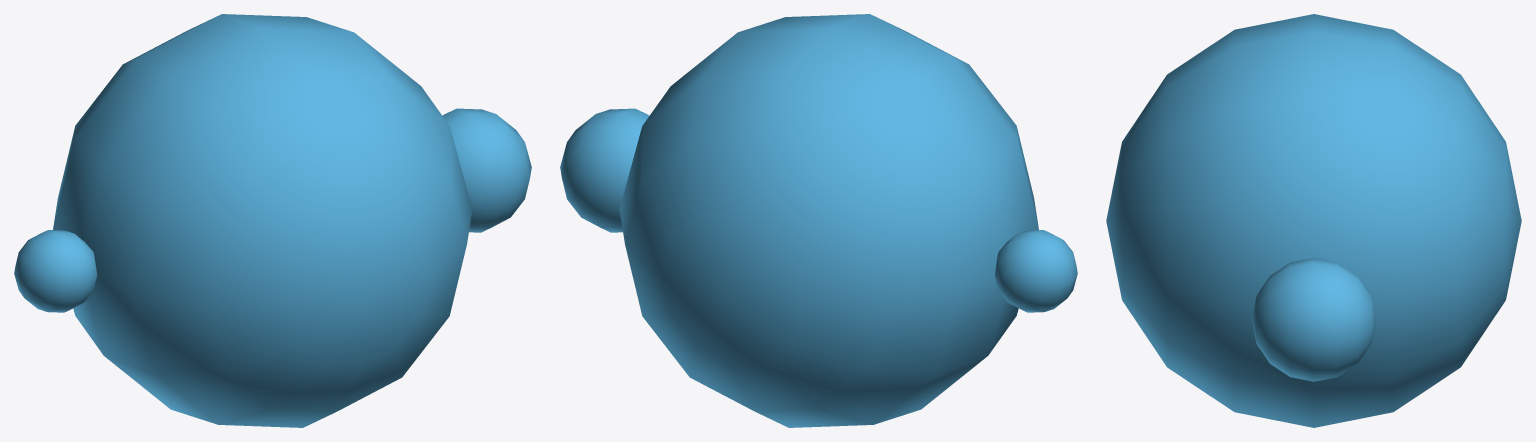
3 views of the same model, side by side, from view 1: azimuth 30°, elevation 25°; view 2: azimuth 150°, elevation 25°; view 3: azimuth 270°, elevation 25° (orthographic).
Visible parts, largest first — view 1: Coral Trout; view 2: Coral Trout; view 3: Coral Trout.
Part boxes in pixels (left/top/right/bottom): Coral Trout: left=14, top=14, right=531, bottom=427; Coral Trout: left=560, top=14, right=1077, bottom=427; Coral Trout: left=1106, top=14, right=1521, bottom=427.
Bounding box in the file's own units: 1.1 × 0.8 × 0.8.
